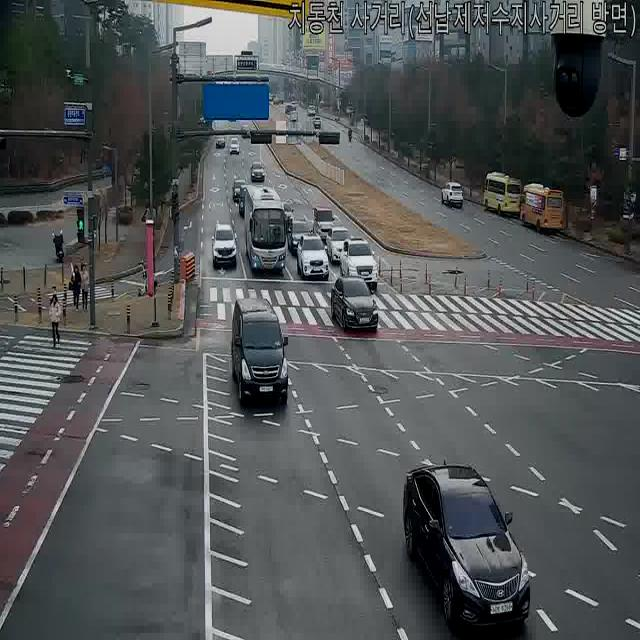Bus: (244, 184, 290, 274), (519, 182, 565, 234), (482, 171, 524, 217)
Car: (401, 460, 534, 634), (231, 301, 291, 413), (331, 277, 380, 335), (339, 238, 378, 288), (296, 235, 330, 281), (210, 224, 238, 269), (325, 225, 353, 264), (311, 206, 337, 246), (287, 220, 315, 256), (270, 200, 296, 235), (439, 180, 467, 210), (238, 188, 257, 218), (238, 188, 256, 218), (232, 178, 247, 203), (250, 161, 266, 183), (228, 137, 240, 155), (215, 134, 226, 148), (312, 115, 322, 129), (306, 104, 316, 117), (289, 110, 299, 123), (284, 102, 294, 115), (274, 92, 284, 104)
Motorcycle: (346, 126, 354, 150)
